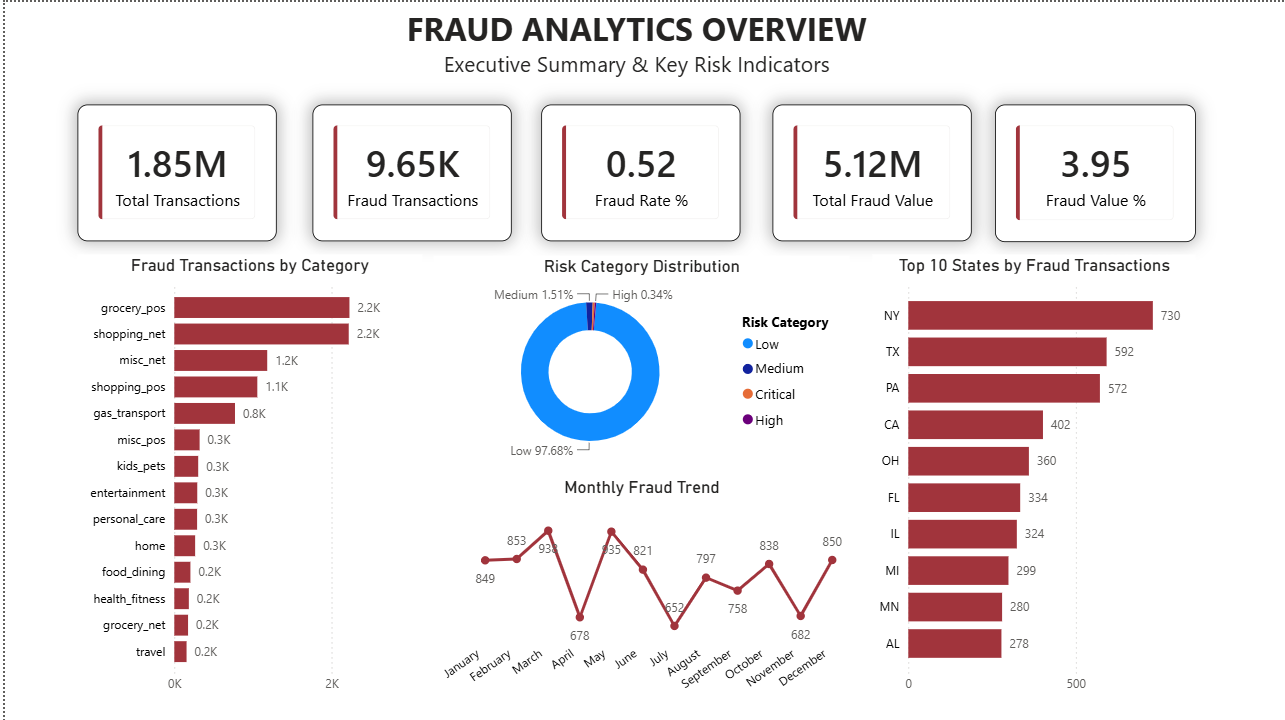

The dashboard page shown, as its layout file describes it:
{"tool":"powerbi","page":{"name":"Executive Overview Dashboard","canvas":[1280,720],"ordinal":0},"visuals":[{"type":"textbox","box":[72.7,0,1118.5,82.8],"z":0},{"type":"cardVisual","fields":{"Data":["Sum(fraud_analytics_db vw_core_kpis.total_transactions)"]},"box":[72.7,102.8,199.4,136.7],"z":1000},{"type":"cardVisual","fields":{"Data":["Sum(fraud_analytics_db vw_core_kpis.total_fraud_transactions)"]},"box":[307.2,102.8,199.4,136.7],"z":2000},{"type":"cardVisual","fields":{"Data":["Sum(fraud_analytics_db vw_core_kpis.fraud_rate_percentage)"]},"box":[536.7,102.8,199.4,136.7],"z":3000},{"type":"cardVisual","fields":{"Data":["Sum(fraud_analytics_db vw_core_kpis.total_fraud_value)"]},"box":[767.4,102.8,199.4,136.7],"z":4000},{"type":"cardVisual","fields":{"Data":["Sum(fraud_analytics_db vw_core_kpis.fraud_value_percentage)"]},"box":[990.6,102.8,200.6,137.9],"z":5000},{"type":"clusteredBarChart","title":"Fraud Transactions by Category","fields":{"Category":["fraud_analytics_db vw_category_analysis.category"],"Y":["Sum(fraud_analytics_db vw_category_analysis.fraud_transactions)"]},"box":[72.7,252,344.8,447.7],"z":6000},{"type":"donutChart","title":"Risk Category Distribution","fields":{"Category":["fraud_analytics_db vw_risk_analysis.risk_category"],"Y":["Sum(fraud_analytics_db vw_risk_analysis.transaction_count)"]},"box":[428.8,253.3,416.3,213.2],"z":7000},{"type":"clusteredBarChart","title":"Top 10 States by Fraud Transactions","fields":{"Category":["fraud_analytics_db vw_geographic_analysis.state"],"Y":["Sum(fraud_analytics_db vw_geographic_analysis.fraud_transactions)"]},"box":[867.7,252,323.5,447.7],"z":8000},{"type":"lineChart","title":"Monthly Fraud Trend","fields":{"Category":["fraud_analytics_db vw_monthly_fraud_analysis.transaction_month"],"Y":["Sum(fraud_analytics_db vw_monthly_fraud_analysis.fraud_transactions)"]},"box":[428.8,475.2,416.3,234.5],"z":9000}]}

Visuals, with their boxes in screenshot pixels (x1, y1, x2, y2), scaled from the page's 1280x720 canvas onto the 1285x720 screenshot:
textbox: 73/0/1196/83
cardVisual - Sum(fraud_analytics_db vw_core_kpis.total_transactions): 73/103/273/240
cardVisual - Sum(fraud_analytics_db vw_core_kpis.total_fraud_transactions): 308/103/509/240
cardVisual - Sum(fraud_analytics_db vw_core_kpis.fraud_rate_percentage): 539/103/739/240
cardVisual - Sum(fraud_analytics_db vw_core_kpis.total_fraud_value): 770/103/971/240
cardVisual - Sum(fraud_analytics_db vw_core_kpis.fraud_value_percentage): 994/103/1196/241
"Fraud Transactions by Category" clusteredBarChart: 73/252/419/700
"Risk Category Distribution" donutChart: 430/253/848/466
"Top 10 States by Fraud Transactions" clusteredBarChart: 871/252/1196/700
"Monthly Fraud Trend" lineChart: 430/475/848/710
